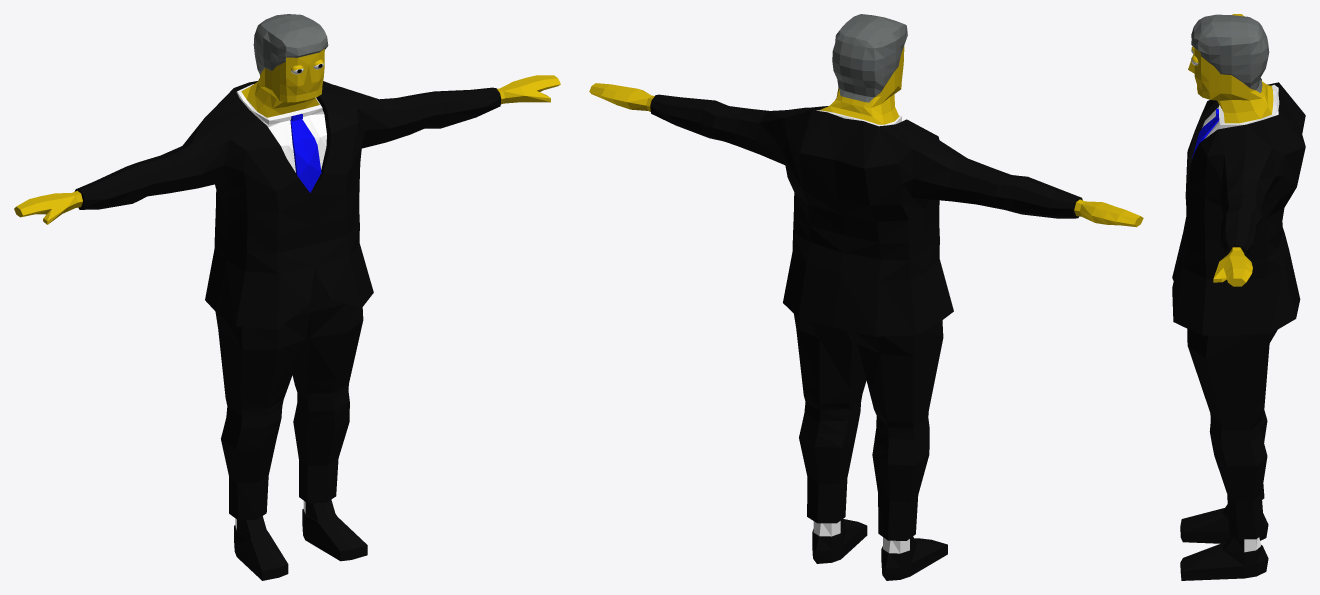
Rendered from O Ilibado.fbx.
The picture shows the model from 3 angles, left to right: view 1: azimuth 30°, elevation 25°; view 2: azimuth 150°, elevation 25°; view 3: azimuth 270°, elevation 25°; orthographic projection.
Visible parts, largest first — view 1: Dealer; view 2: Dealer; view 3: Dealer.
Part boxes in pixels (x1,y1,x2,y2): Dealer: [14, 14, 560, 580]; Dealer: [589, 14, 1143, 580]; Dealer: [1172, 14, 1305, 580].
Bounding box in the file's own units: 1.81 × 0.3855 × 1.7.
